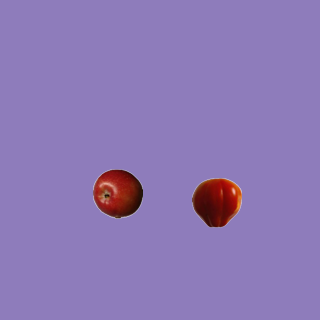Apple Braeburn: (92, 168, 142, 218)
Tomato 1: (191, 177, 241, 227)
